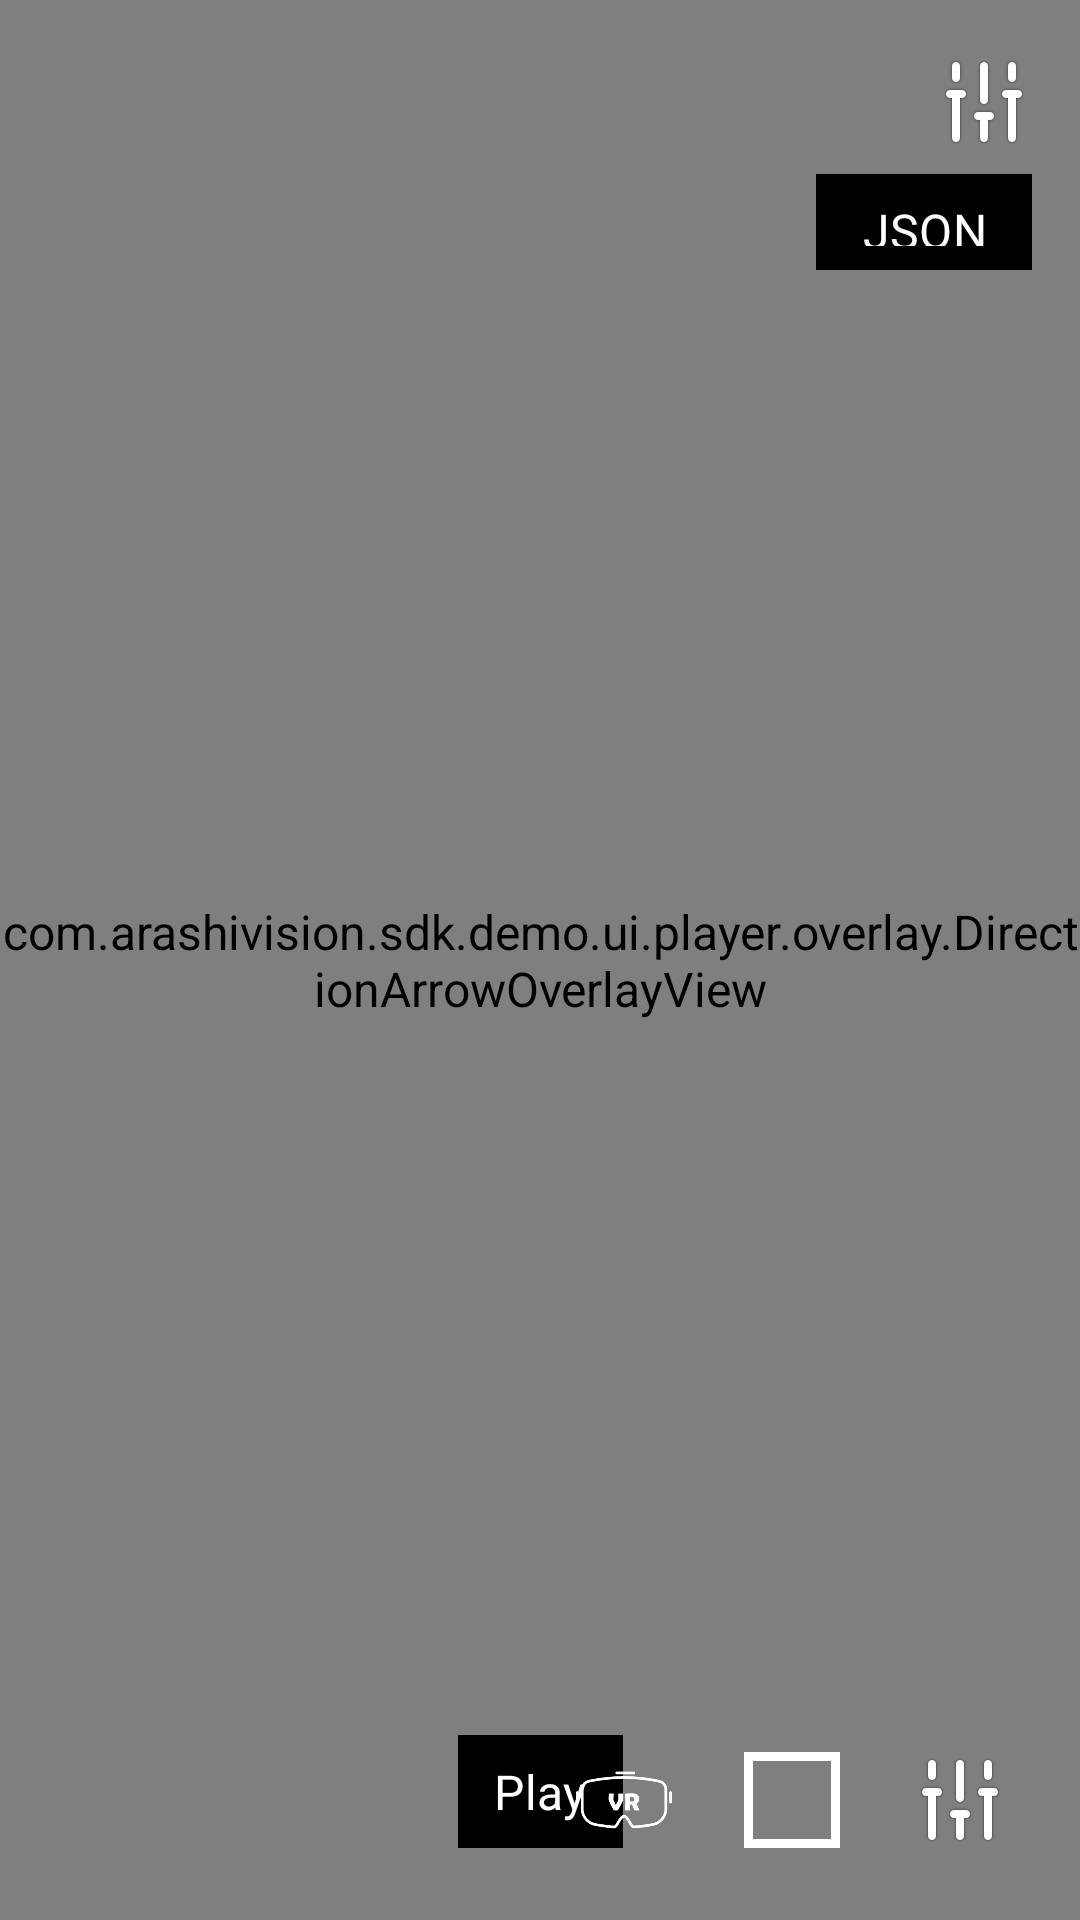

Icons on this 1080×1920 Android screen, each with its box as box(x1, y1, x2, y2):
Enter VR: box(576, 1752, 672, 1848)
